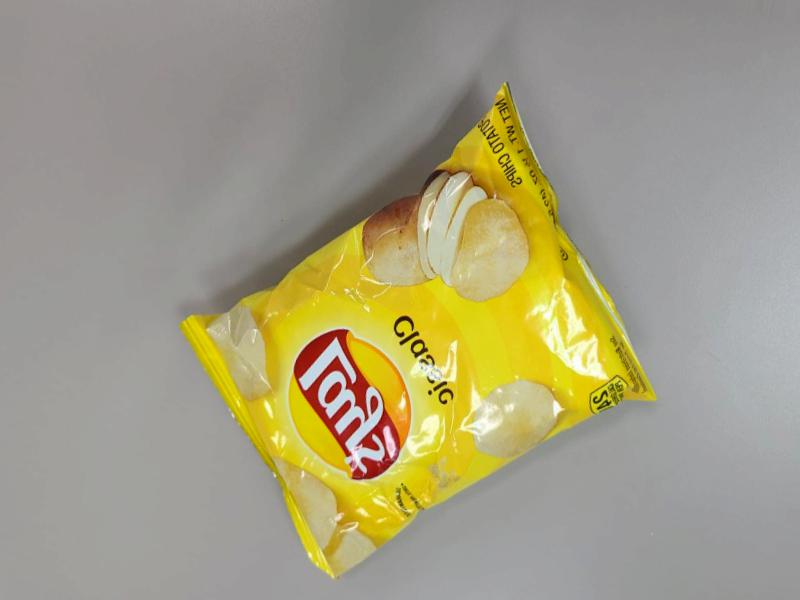lays: (277, 49, 634, 600)
